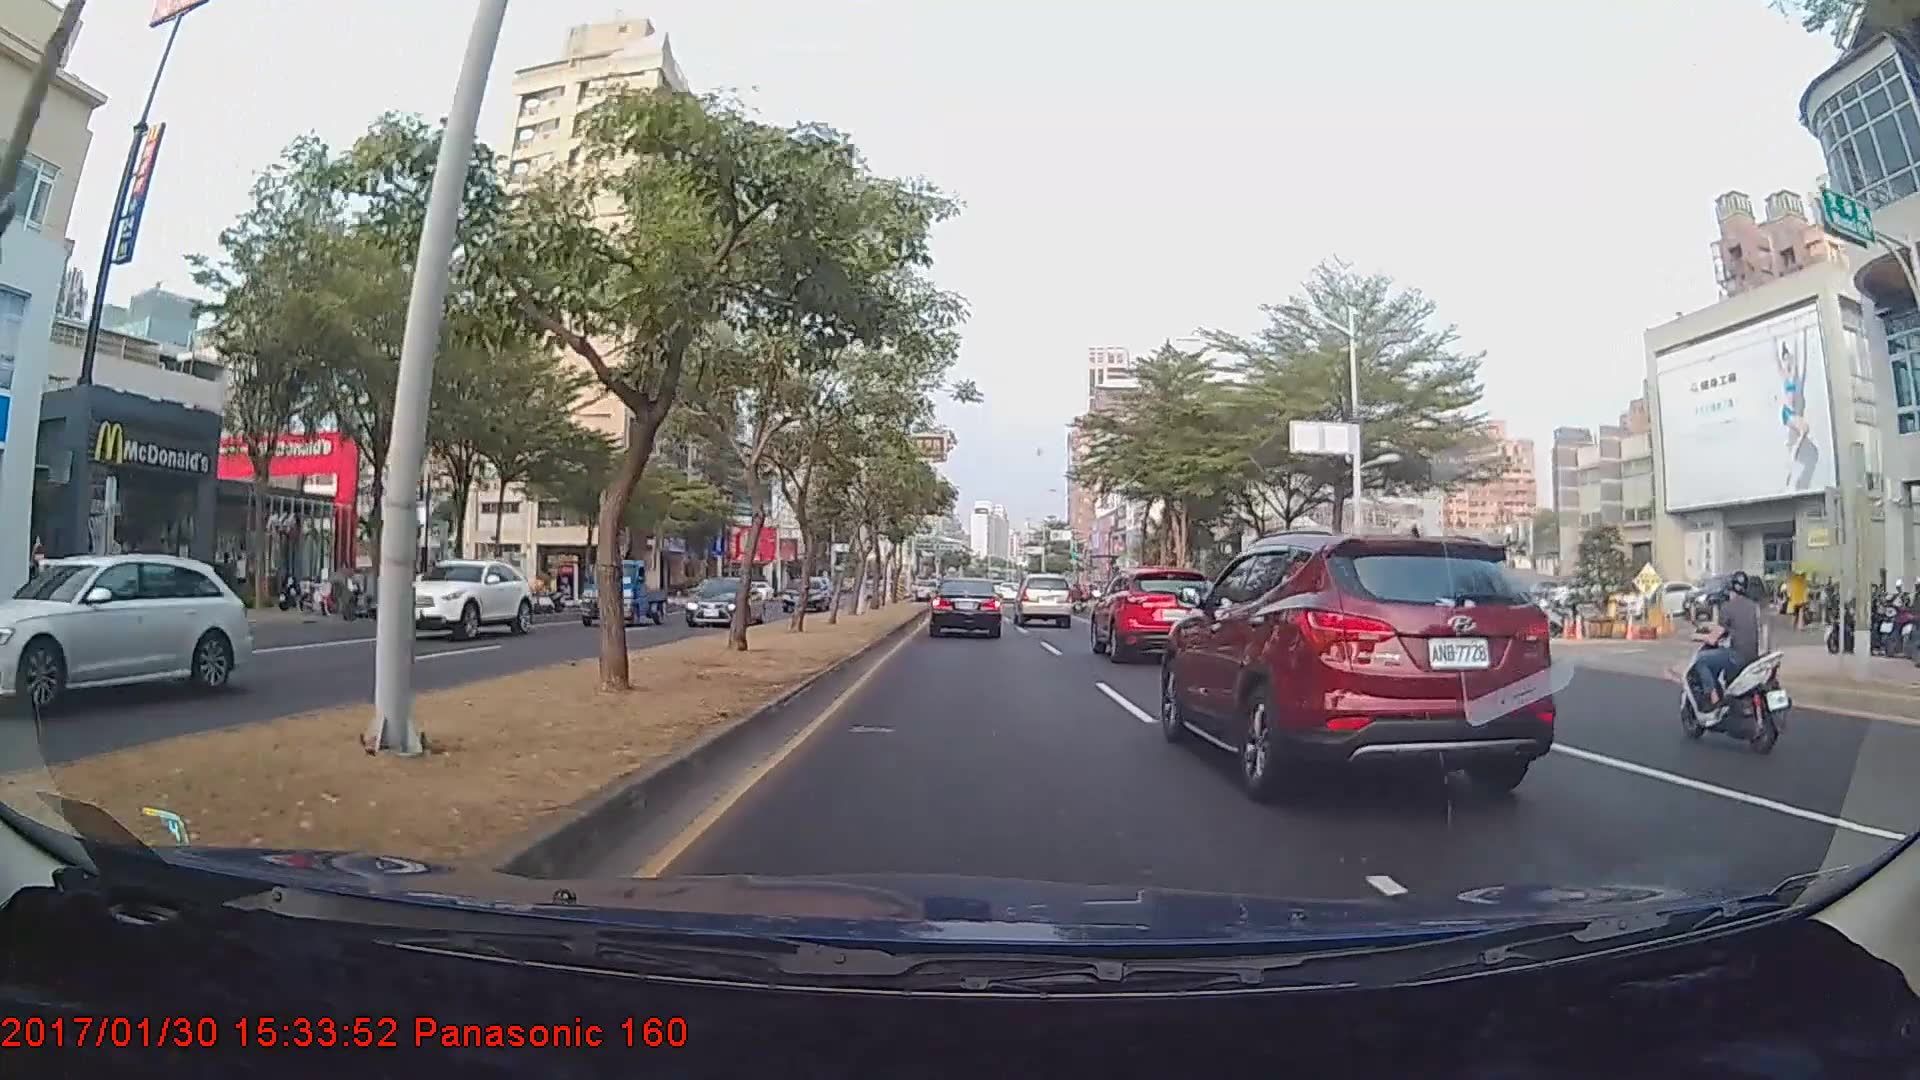rider: (1673, 566, 1795, 758)
vehicle: (1169, 529, 1548, 788), (0, 551, 246, 714), (380, 558, 535, 639), (1088, 565, 1213, 663), (580, 558, 671, 627), (929, 576, 1002, 638), (684, 573, 763, 629), (1013, 572, 1074, 628), (783, 574, 830, 613)
